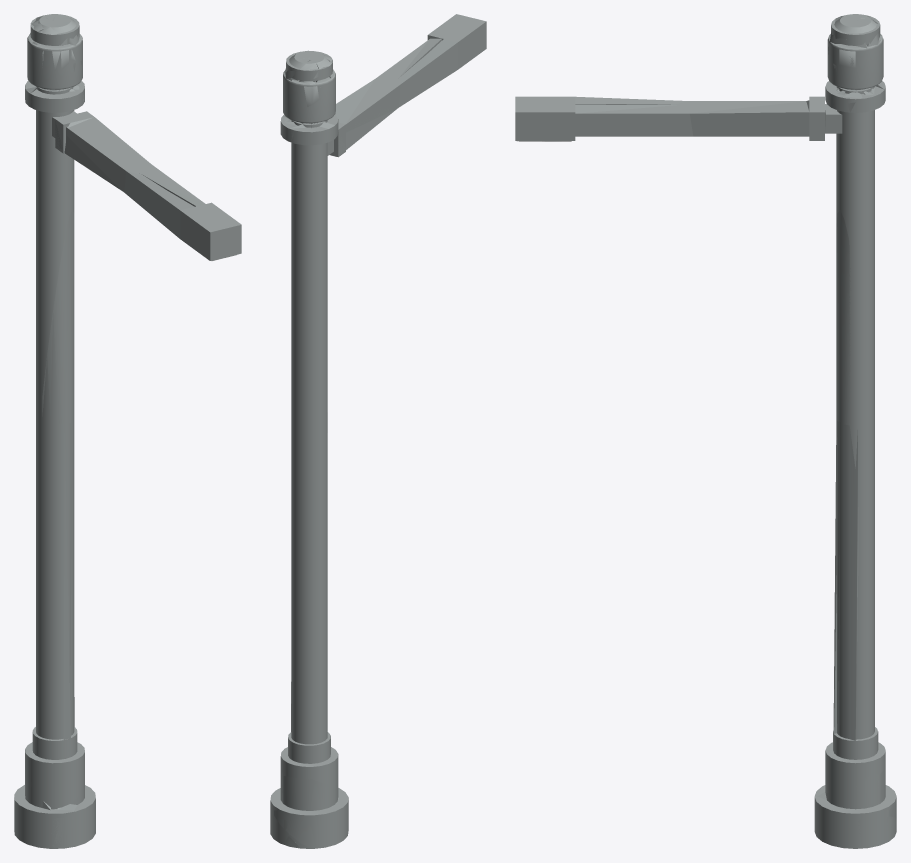
The model's file is Lamp_Post_Raw.fbx.
The picture shows the model from 3 angles, left to right: view 1: azimuth 30°, elevation 25°; view 2: azimuth 150°, elevation 25°; view 3: azimuth 270°, elevation 25°; orthographic projection. The views are drawn at different scales.
Parts seen in each view (by area): view 1: lamp_Post, lamp_Post_cell.025, lamp_Post_cell.001, lamp_Post_cell.016, lamp_Post_cell.038, lamp_Post_cell.032, lamp_Post_cell.022; view 2: lamp_Post, lamp_Post_cell.024, lamp_Post_cell.001, lamp_Post_cell.016; view 3: lamp_Post, lamp_Post_cell.032, lamp_Post_cell.016, lamp_Post_cell.025, lamp_Post_cell.010, lamp_Post_cell.038.
Part boxes in pixels (<box>): lamp_Post: <box>14,14,241,848</box>; lamp_Post_cell.025: <box>42,209,74,423</box>; lamp_Post_cell.001: <box>124,171,194,238</box>; lamp_Post_cell.016: <box>64,117,150,191</box>; lamp_Post_cell.038: <box>63,432,70,739</box>; lamp_Post_cell.032: <box>69,422,74,726</box>; lamp_Post_cell.022: <box>51,796,90,848</box>; lamp_Post: <box>270,14,486,848</box>; lamp_Post_cell.024: <box>274,776,343,848</box>; lamp_Post_cell.001: <box>399,39,457,107</box>; lamp_Post_cell.016: <box>335,79,397,149</box>; lamp_Post: <box>515,14,896,848</box>; lamp_Post_cell.032: <box>837,421,858,740</box>; lamp_Post_cell.016: <box>690,100,825,136</box>; lamp_Post_cell.025: <box>836,210,850,423</box>; lamp_Post_cell.010: <box>545,104,688,141</box>; lamp_Post_cell.038: <box>833,440,836,733</box>.
Size of the model in its own units: 7.62 by 82.9 by 35.34.
